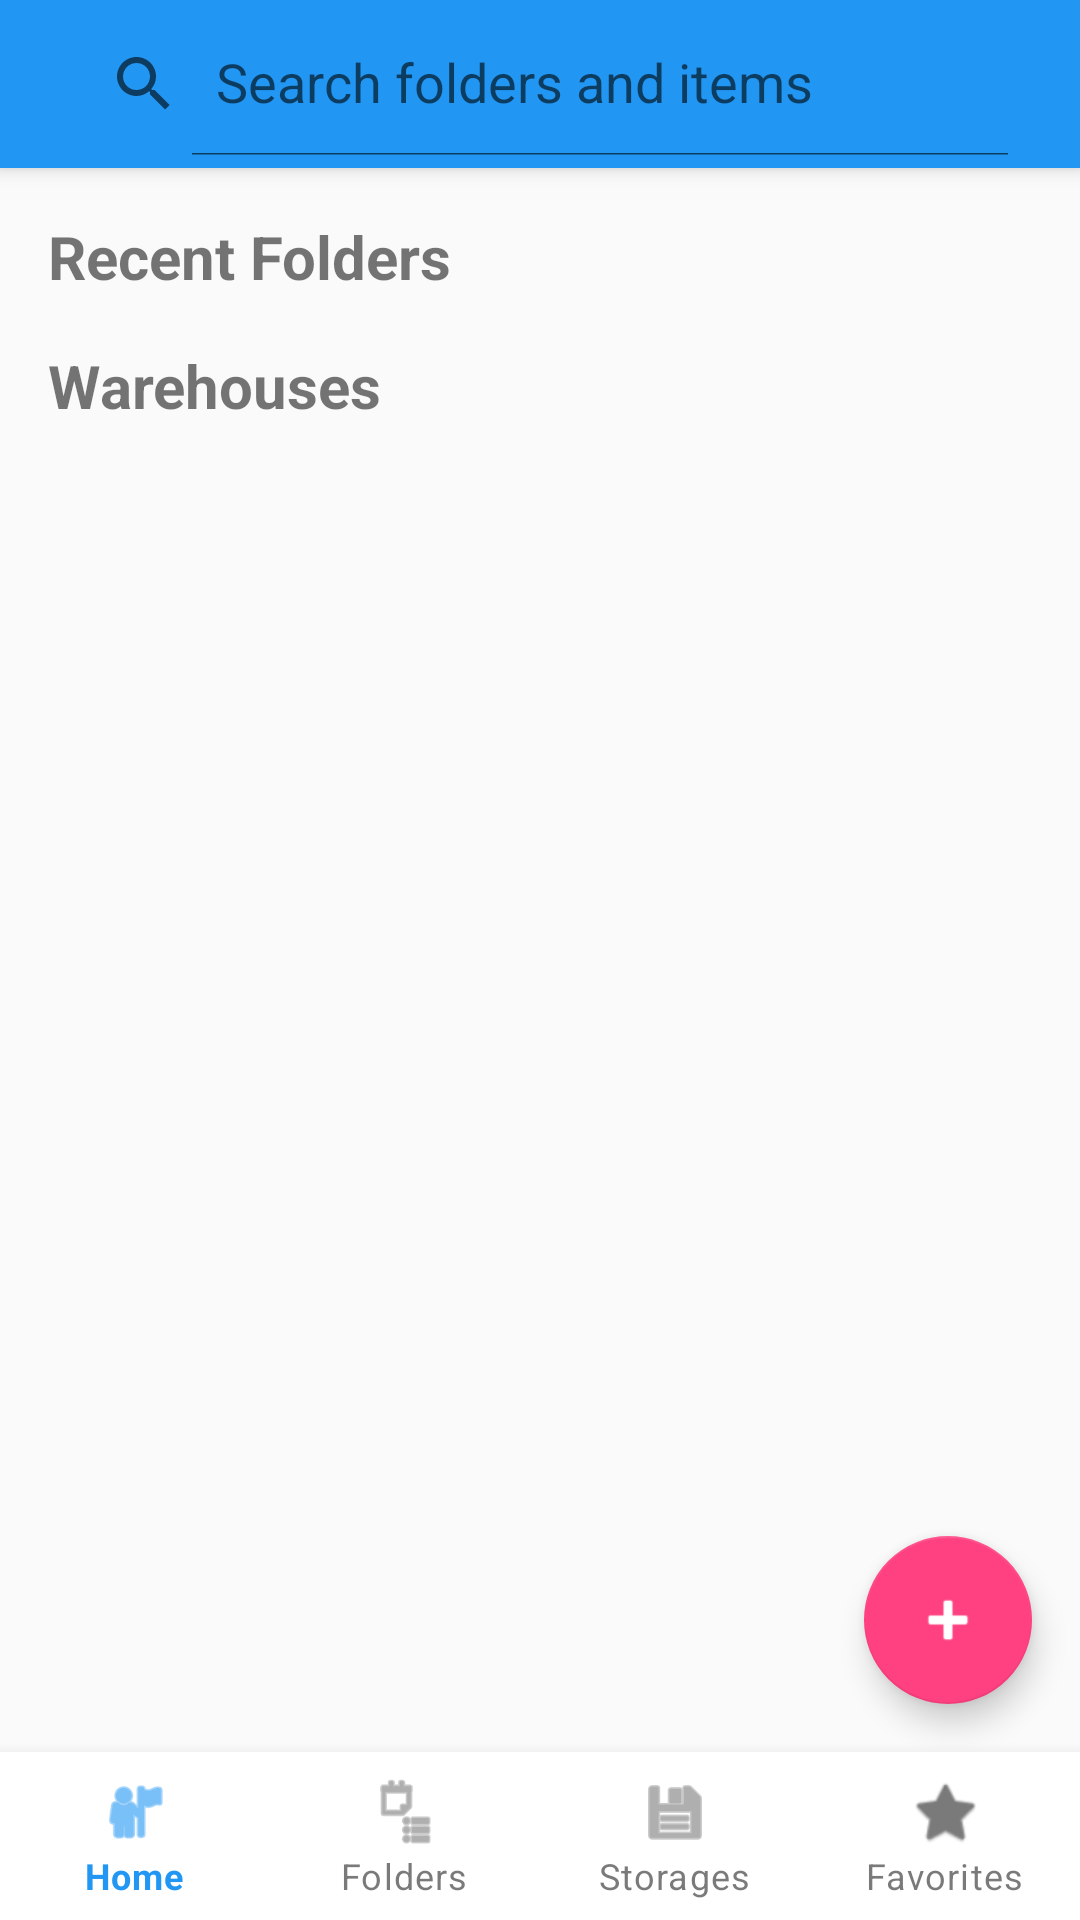

Named icons in this screenshot (1080 × 1920) and their bounding boxes, bbox=(x1, y1, x2, y2):
Add Folder: bbox=(864, 1536, 1032, 1704)
